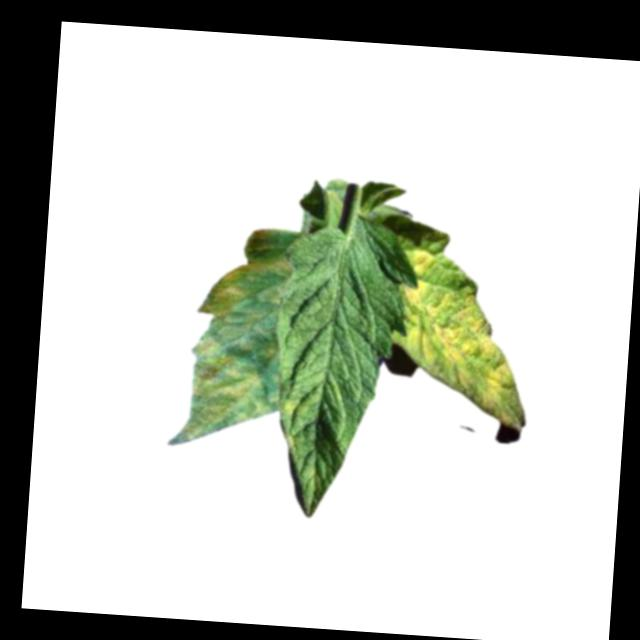Leaf_Mold: (385, 248, 538, 434), (169, 223, 291, 454), (277, 402, 306, 449)
